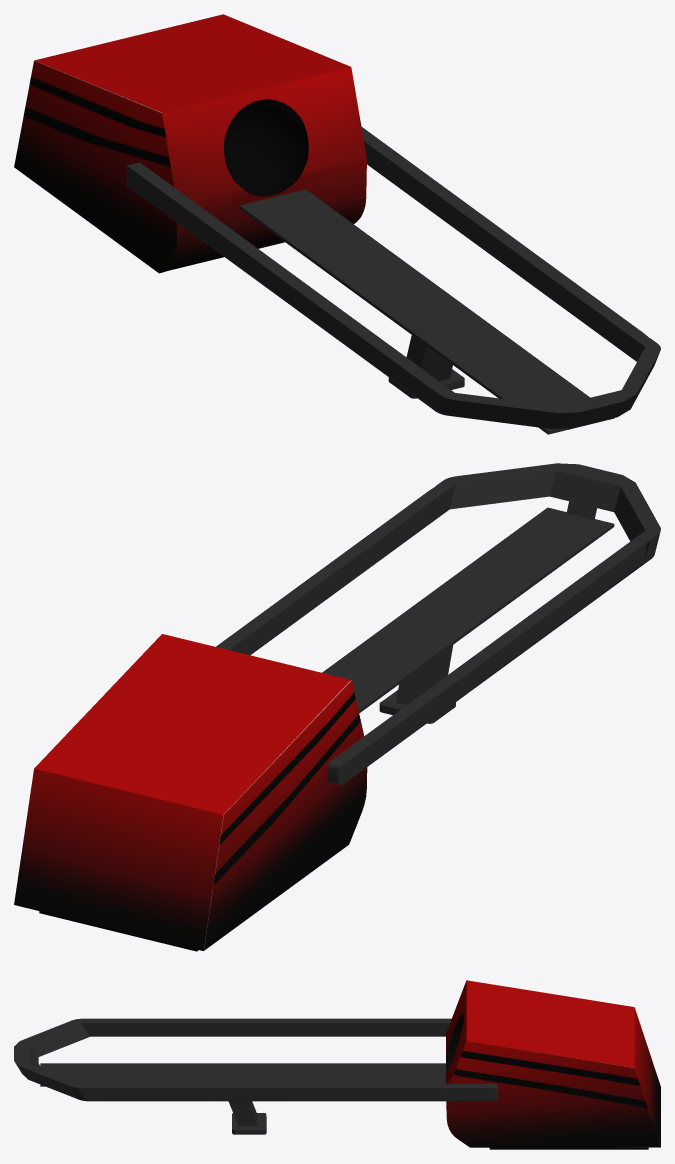
Rendered from sm_AlleyBallCollector.fbx.
The picture shows the model from 3 angles, top to bottom: view 1: azimuth 30°, elevation 25°; view 2: azimuth 150°, elevation 25°; view 3: azimuth 270°, elevation 25°; orthographic projection. The views are drawn at different scales.
Visible parts, largest first — view 1: AlleyBallCollector1; view 2: AlleyBallCollector1; view 3: AlleyBallCollector1.
Boxes of the visible parts, x1,y1,x2,y2 form: AlleyBallCollector1: (14, 14, 660, 434); AlleyBallCollector1: (14, 463, 660, 951); AlleyBallCollector1: (14, 980, 660, 1149).
Size of the model in its own units: 326 by 250 by 1285.
2 materials, 1 textured.
